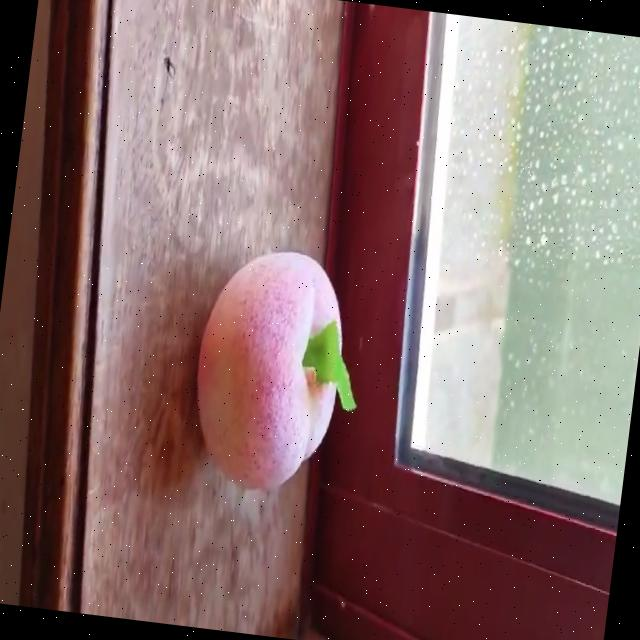peach: (196, 253, 355, 488)
